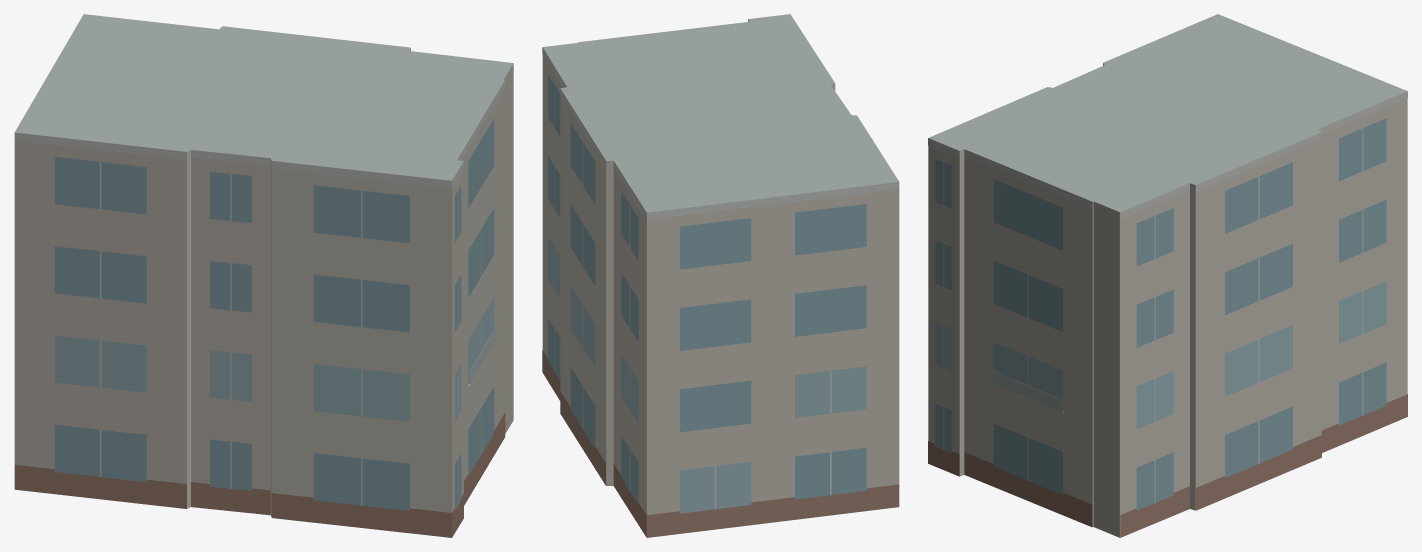
File: survey-upis-32775858.glb
3 renders of one model, left to right at view 1: azimuth 30°, elevation 25°; view 2: azimuth 150°, elevation 25°; view 3: azimuth 270°, elevation 25°, orthographic. The views are drawn at different scales.
Parts seen in each view (by area): view 1: survey-upis-32775858.tmp; view 2: survey-upis-32775858.tmp; view 3: survey-upis-32775858.tmp.
Part boxes in pixels (left/top/right/bottom): survey-upis-32775858.tmp: left=14, top=14, right=513, bottom=537; survey-upis-32775858.tmp: left=542, top=14, right=899, bottom=537; survey-upis-32775858.tmp: left=928, top=14, right=1407, bottom=537.
Size of the model in its own units: 14.37 by 11 by 14.69.
